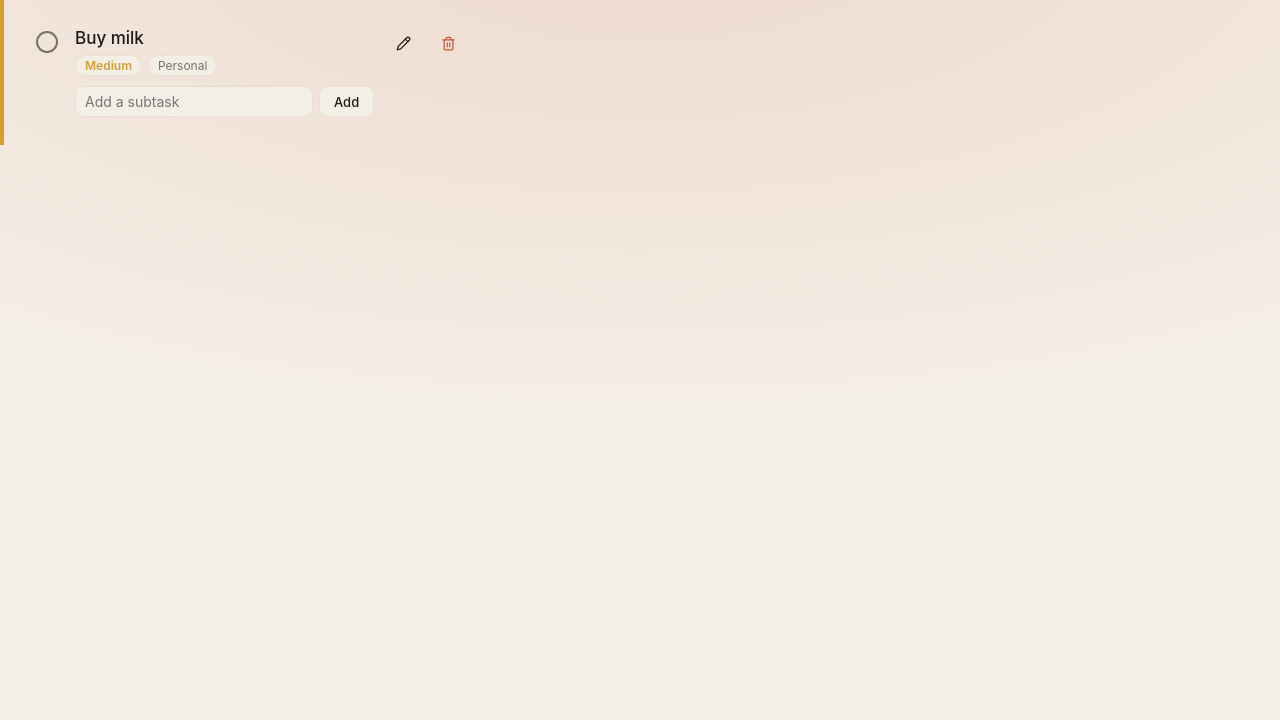
TodoItem delete confirmation › Cancel closes the dialog without deleting
What coordinates should you click on to do the following:
click the button named "Delete \"Buy milk\""
I would click on:
 (449, 44)
Its box is [433,28,464,59].
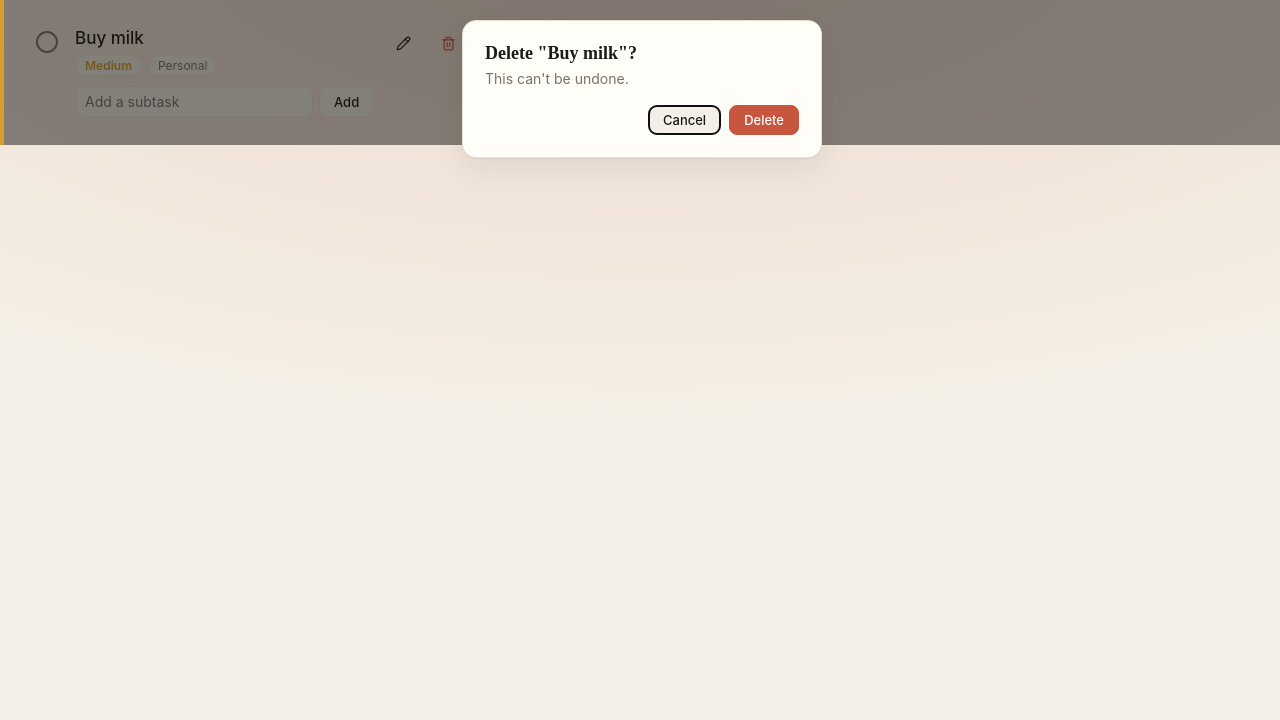
What coordinates should you click on to do the following:
click the button "Cancel"
I would click on:
 (685, 120)
Its box is [648,105,721,135].
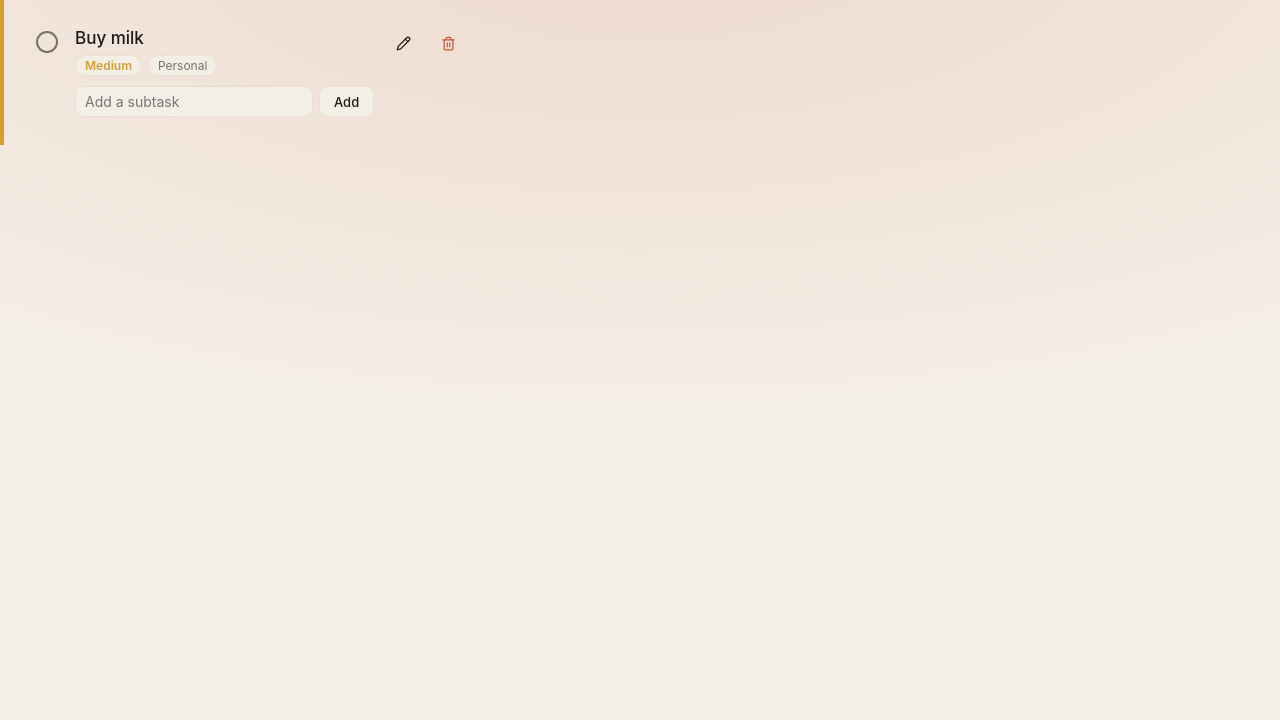
Expected: the dialog is gone
